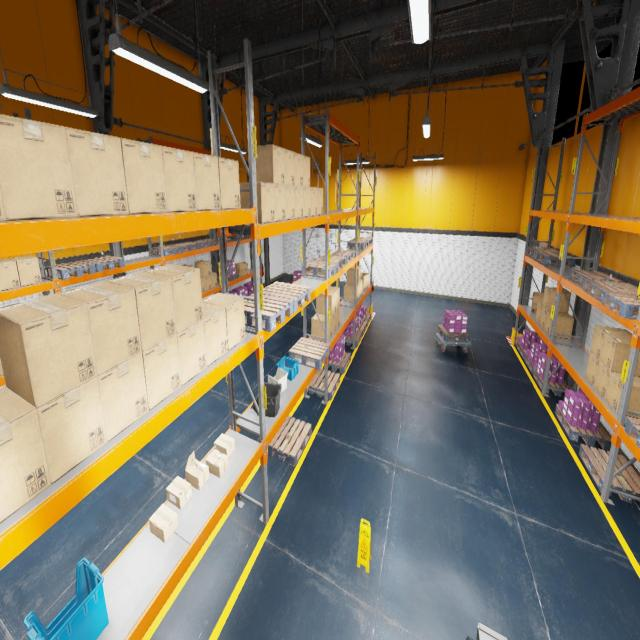box: (0, 293, 97, 408), (0, 114, 78, 220), (56, 281, 142, 376), (36, 376, 107, 484), (0, 386, 51, 524), (65, 127, 129, 216), (105, 272, 176, 352), (98, 352, 148, 442), (142, 264, 203, 333), (120, 137, 168, 214), (142, 334, 181, 410), (202, 293, 245, 350), (162, 146, 197, 212), (176, 319, 206, 386), (599, 332, 640, 377), (202, 302, 228, 366), (605, 372, 640, 419), (192, 152, 220, 210), (590, 325, 632, 360), (240, 182, 274, 223), (218, 157, 240, 209), (256, 144, 284, 184), (149, 504, 178, 542), (8, 256, 42, 286), (185, 450, 209, 490), (544, 310, 574, 339), (166, 476, 192, 509), (542, 287, 571, 313), (540, 306, 567, 330), (0, 258, 20, 290), (206, 449, 228, 478), (311, 313, 332, 342), (594, 361, 610, 399), (316, 290, 336, 316), (214, 433, 235, 457), (585, 352, 599, 387), (274, 184, 285, 221), (284, 148, 294, 186), (285, 185, 295, 219), (294, 152, 303, 186), (294, 186, 303, 218), (531, 291, 544, 313), (346, 265, 361, 284), (344, 283, 358, 302), (328, 286, 339, 310), (195, 260, 210, 277), (303, 154, 310, 187), (303, 187, 310, 217), (0, 186, 6, 221), (310, 187, 317, 216), (235, 262, 248, 276), (360, 272, 370, 289), (317, 187, 323, 215), (202, 275, 211, 291), (352, 282, 360, 299), (536, 302, 542, 324), (210, 272, 217, 288), (332, 312, 336, 336), (336, 307, 339, 330), (200, 277, 204, 292), (0, 358, 3, 376), (360, 279, 363, 296)
forklift: (466, 621, 508, 639)
pallets: (578, 443, 640, 503), (555, 404, 611, 451), (268, 415, 311, 467), (244, 293, 293, 332), (263, 282, 310, 312), (583, 278, 638, 302), (289, 337, 330, 369), (601, 290, 640, 320), (533, 367, 572, 396), (308, 368, 340, 401), (46, 260, 96, 280), (569, 269, 624, 286), (80, 255, 124, 272), (302, 260, 339, 278), (535, 250, 576, 266), (324, 351, 351, 374), (438, 325, 469, 342), (624, 416, 640, 448), (526, 246, 560, 258), (315, 255, 346, 268), (152, 244, 182, 256), (170, 241, 200, 252), (345, 330, 362, 348), (331, 250, 354, 263), (193, 238, 217, 248), (347, 239, 369, 249), (524, 353, 534, 373), (516, 340, 526, 358), (353, 237, 372, 246), (217, 274, 238, 282), (358, 321, 367, 336), (362, 313, 371, 326), (227, 234, 248, 238)
